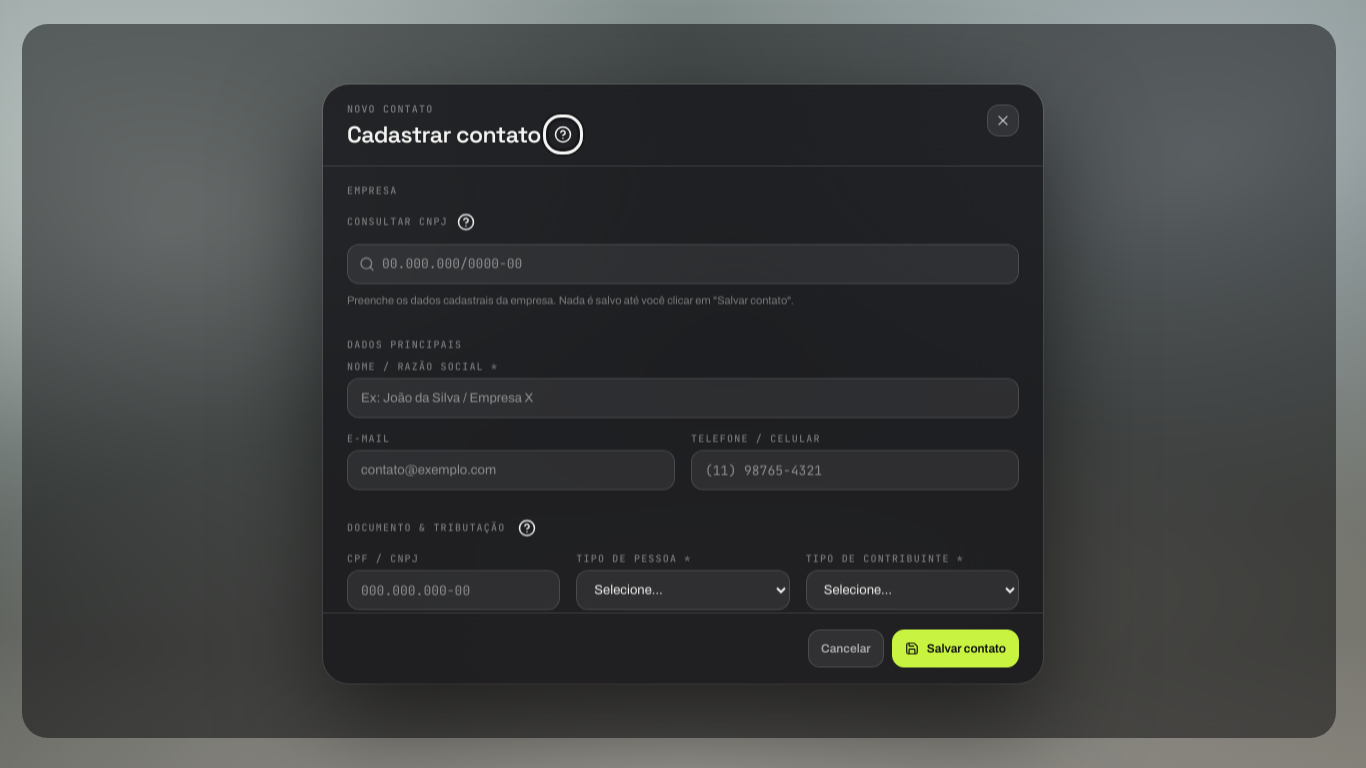
Test case: ClienteEditModal: consulta por CNPJ › CNPJ de OUTRA empresa digitado antes: o consultado assume, e a troca é dita
Type "33.000.167/0001-01" into the field labelled "CPF / CNPJ" at (454, 591), box top-left (347, 571), bottom-right (560, 611)
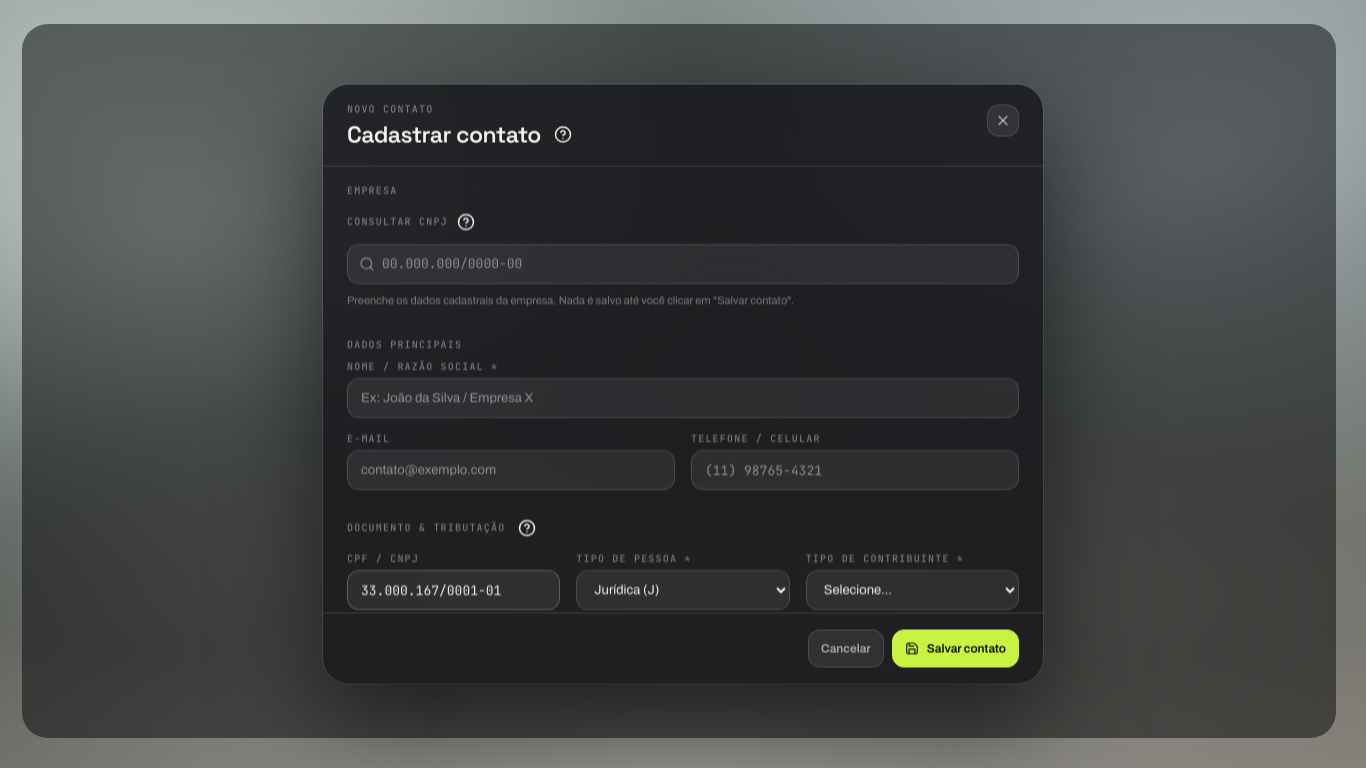
Type "11222333000181" into the field labelled "Consultar CNPJ" at (683, 264), box top-left (347, 244), bottom-right (1019, 284)
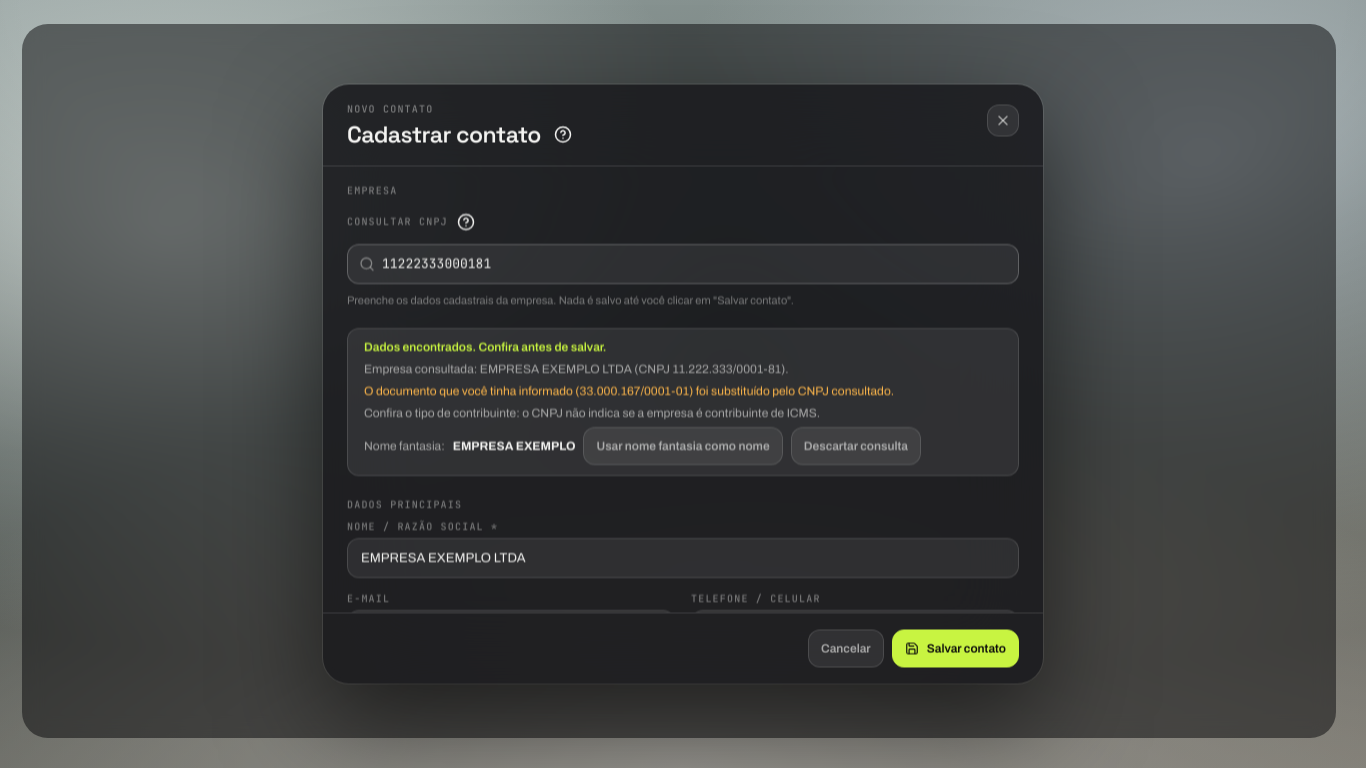
Expected: the text "O documento que você tinha informado (33.000.167/0001-01) foi substituído pelo CNPJ consultado." is shown, top-left (364, 385), bottom-right (894, 399)
